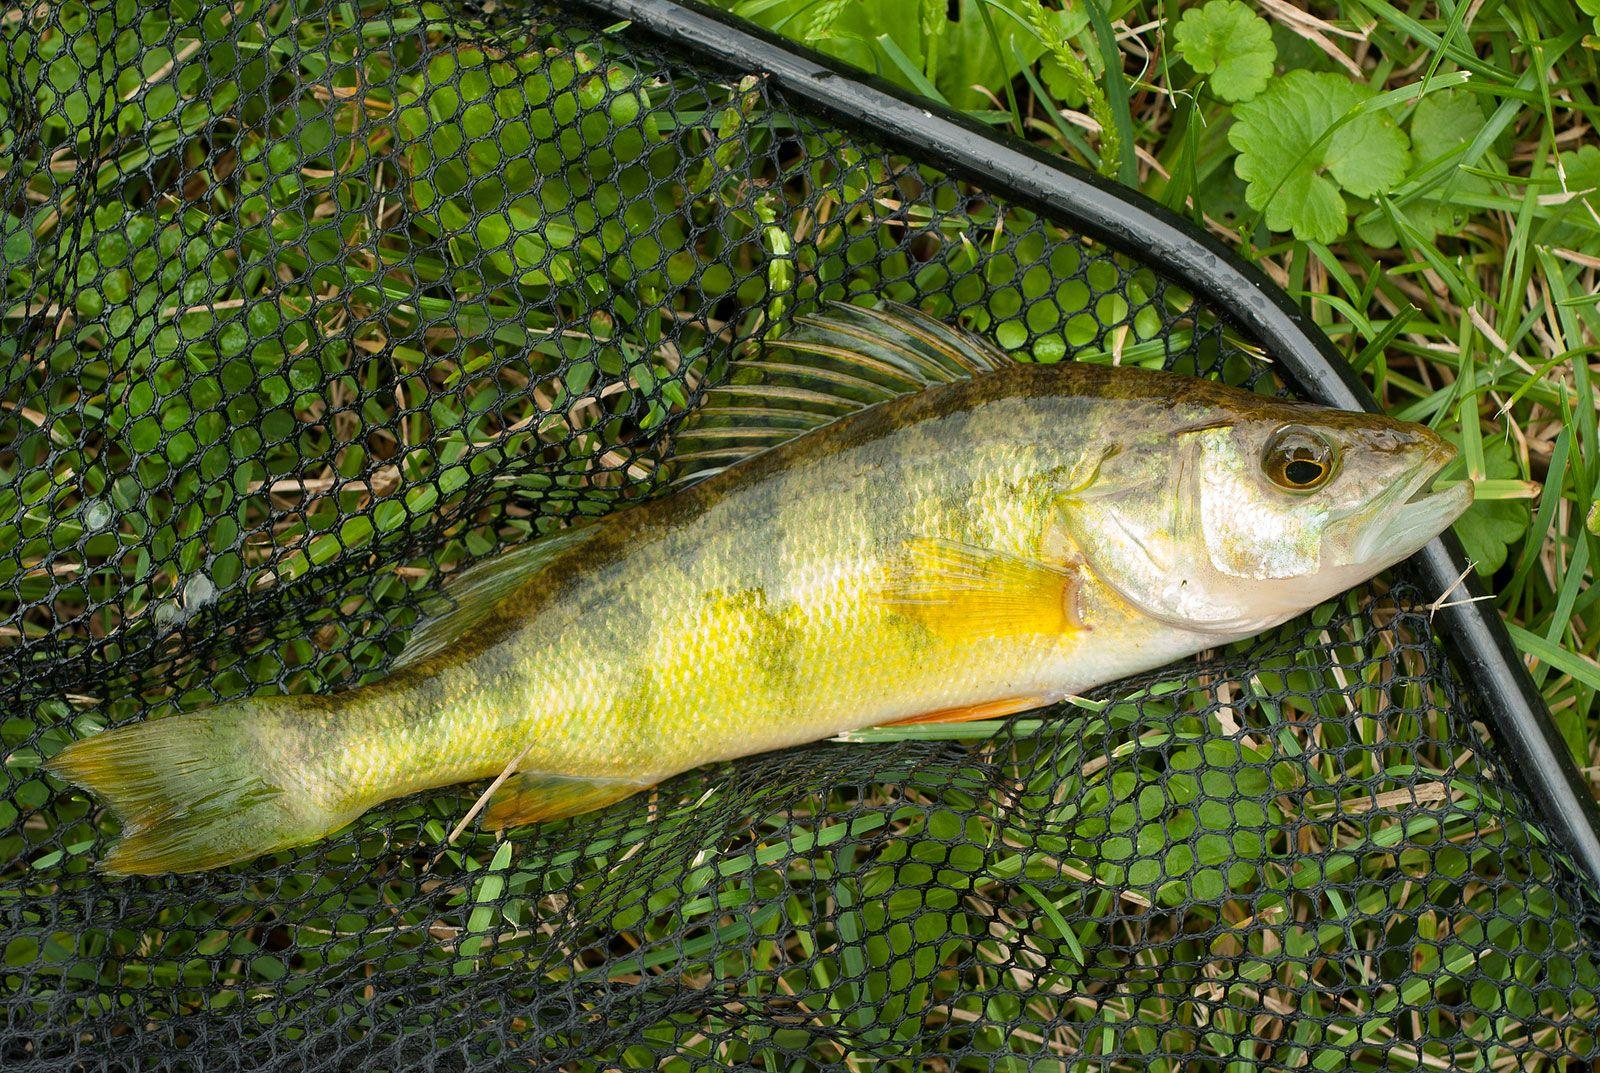Perch: (56, 290, 1473, 913)
